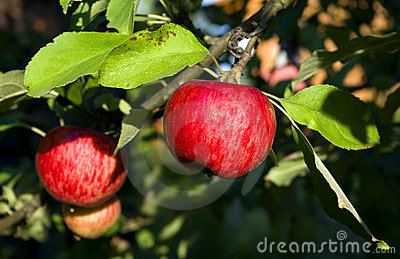apple: (163, 80, 275, 179), (36, 126, 127, 207)
obscured(3)_apple: (61, 198, 120, 240)
